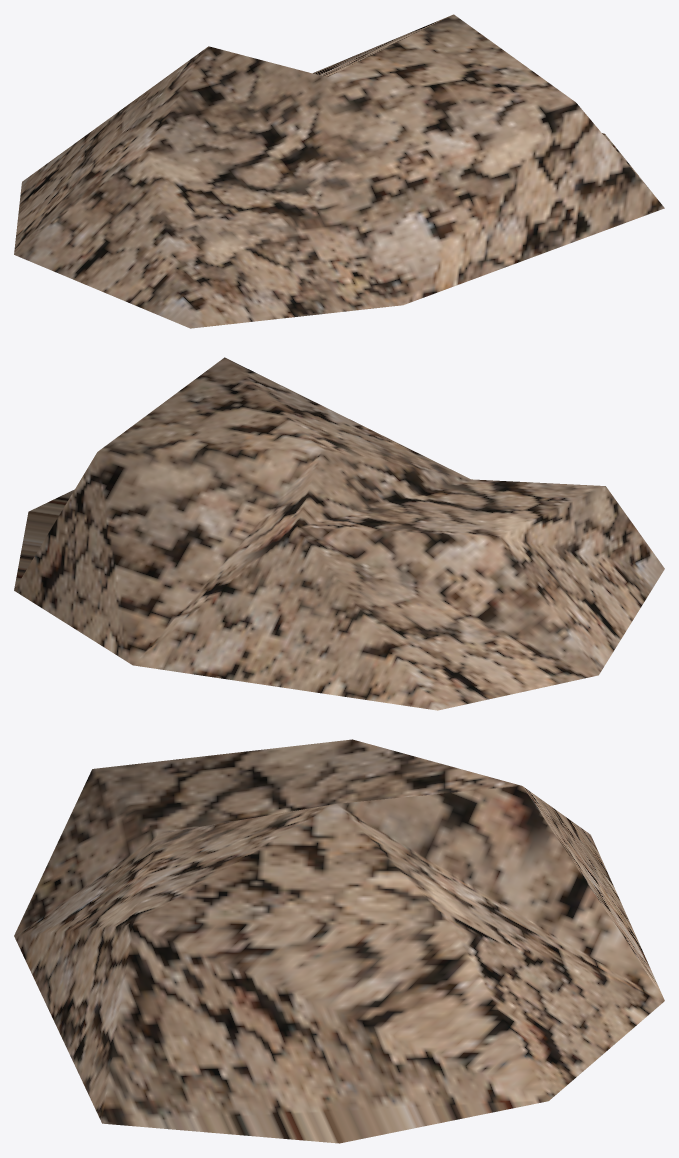
File: dugdirt_0.fbx
3 renders of one model, top to bottom at view 1: azimuth 30°, elevation 25°; view 2: azimuth 150°, elevation 25°; view 3: azimuth 270°, elevation 25°, orthographic. The views are drawn at different scales.
Parts seen in each view (by area): view 1: Gravel_01.001; view 2: Gravel_01.001; view 3: Gravel_01.001.
Boxes of the visible parts, box(x1,y1,x2,y2) form: Gravel_01.001: box(14, 14, 664, 328); Gravel_01.001: box(14, 357, 664, 710); Gravel_01.001: box(14, 739, 664, 1143).
Size of the model in its own units: 156 by 32.87 by 119.
